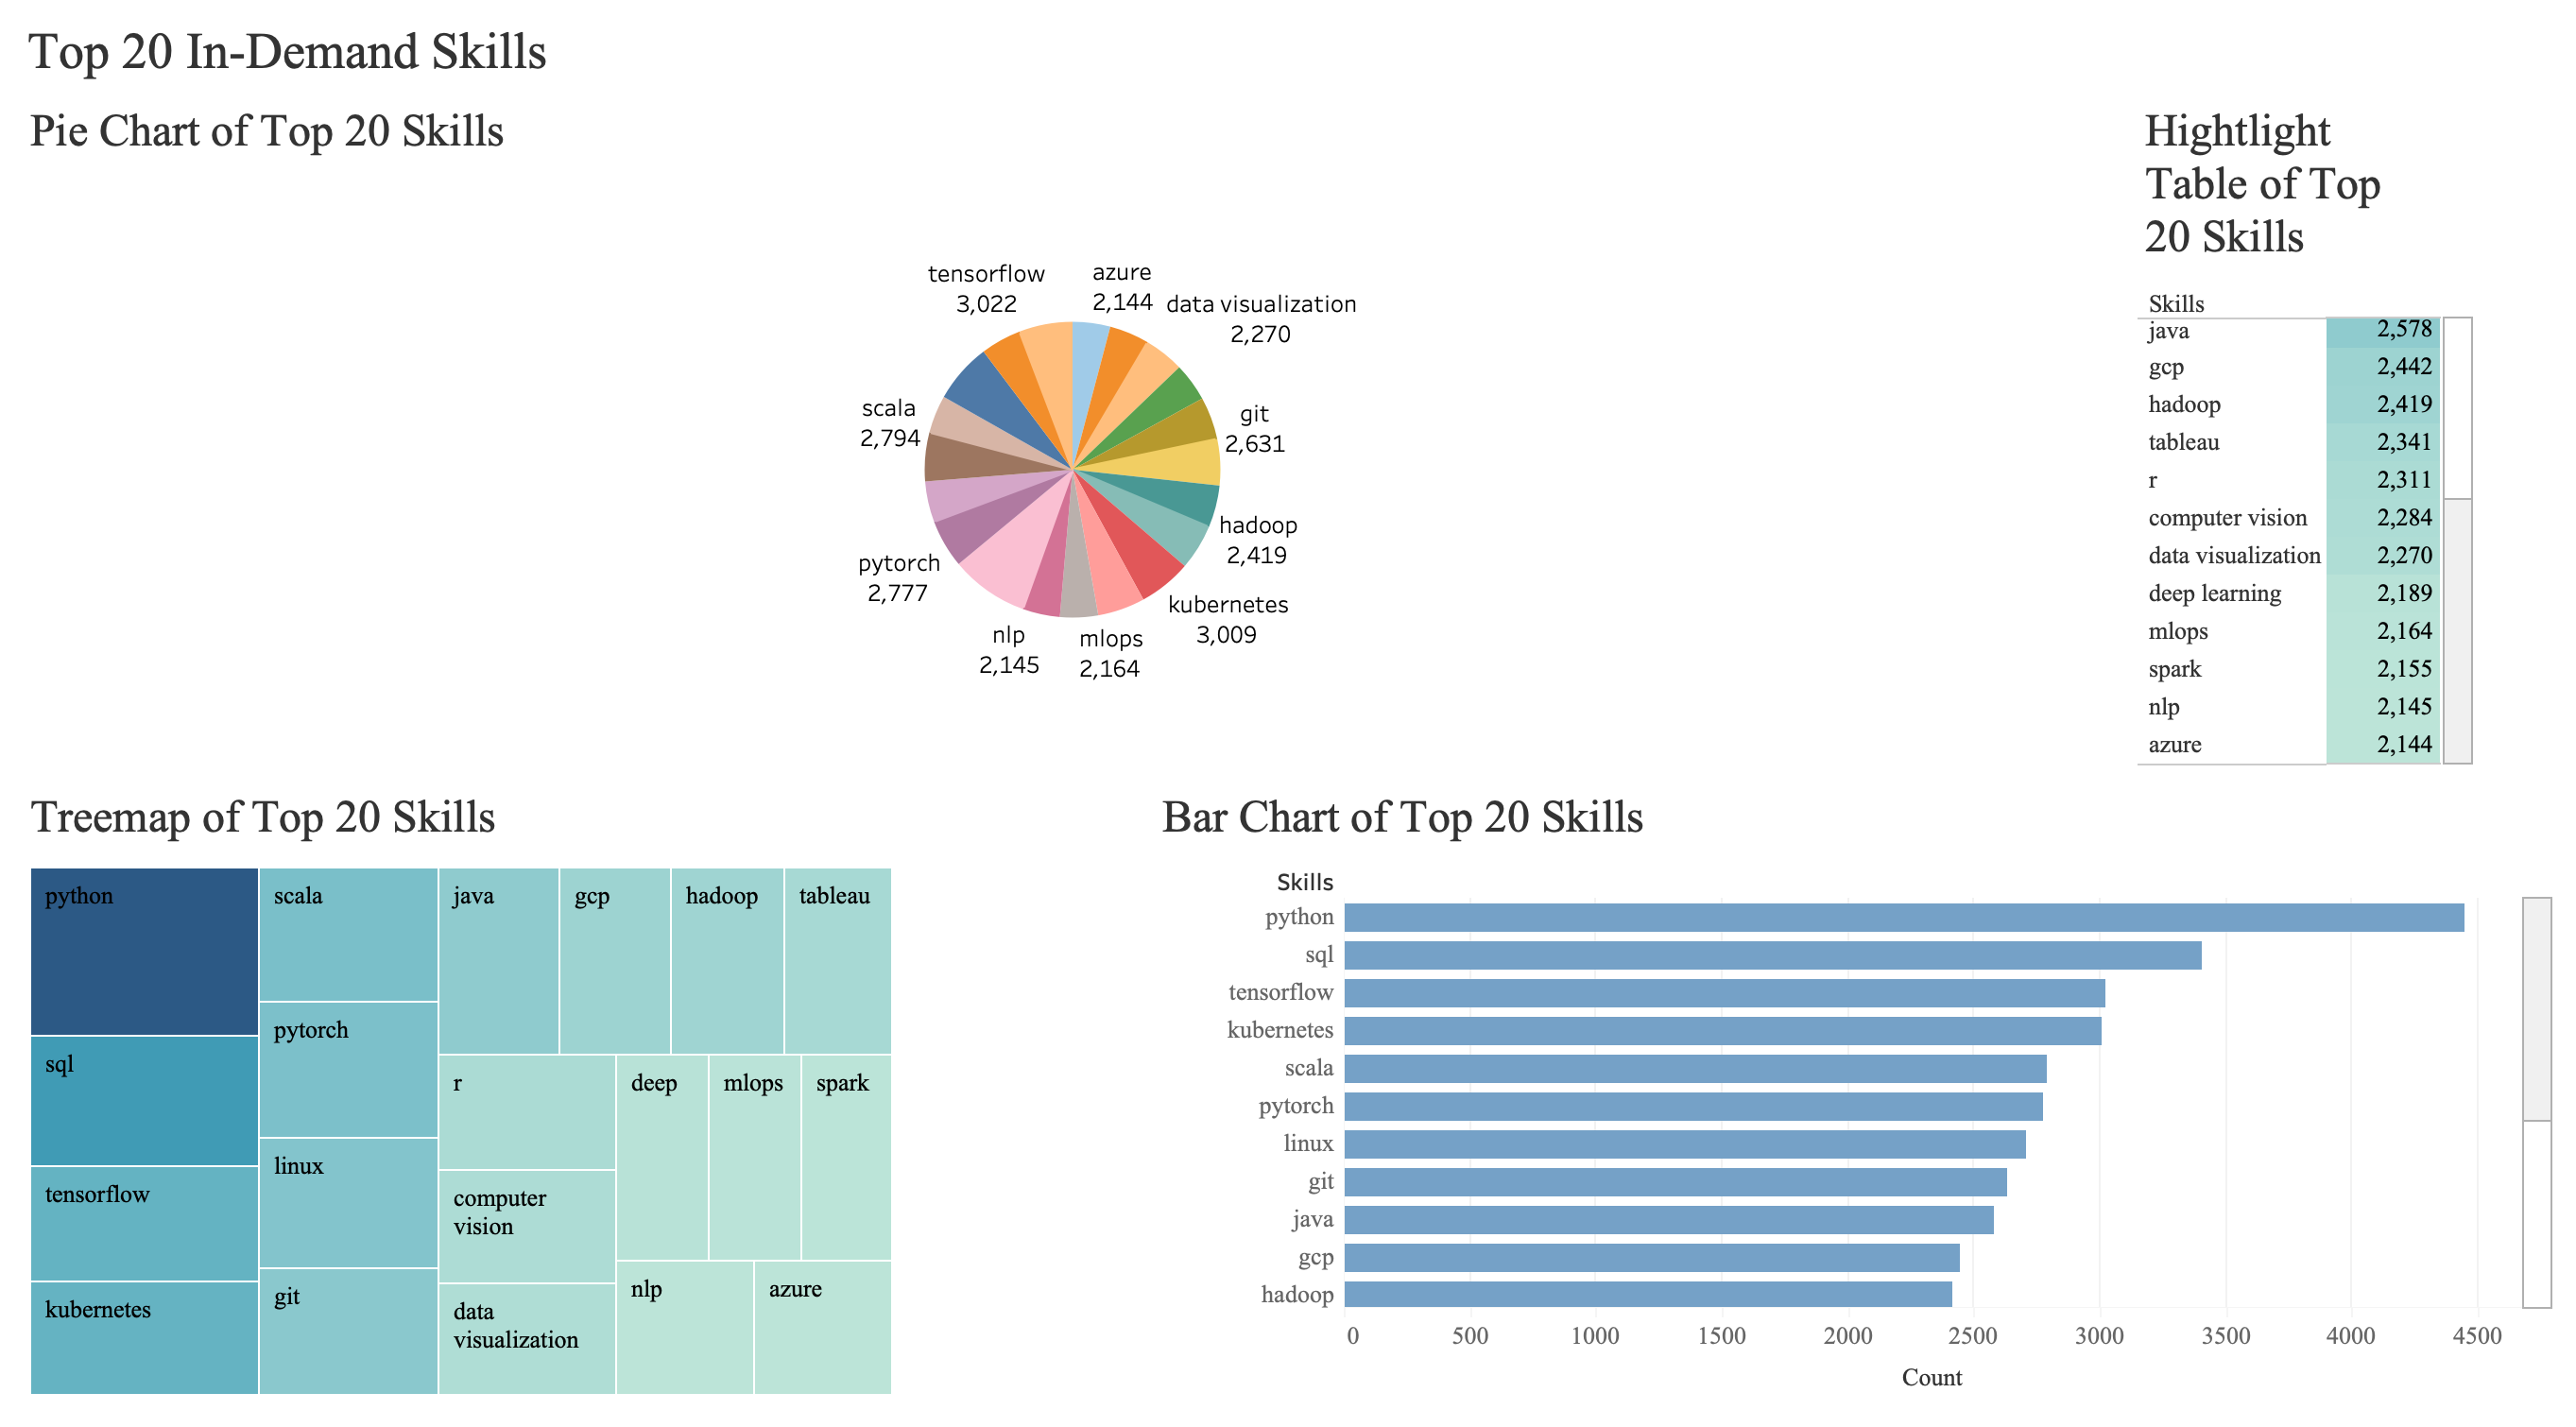

Layout of this report page (visuals, bound fields, positions):
{"tool":"tableau","page":{"name":"Dashboard 1","canvas":[1000,1000],"units":"permille","ordinal":0},"visuals":[{"type":"title","box":[5.9,10.6,988.3,50.3]},{"type":"worksheet","title":"Sheet 2","mark":"Pie","box":[5.9,60.9,820.7,480.9]},{"type":"worksheet","title":"Sheet 4","mark":"Square","rows":["skills"],"box":[826.6,60.9,167.6,480.9]},{"type":"worksheet","title":"Sheet 3","mark":"Automatic","box":[5.9,541.8,439.7,447.6]},{"type":"worksheet","title":"Sheet 1","mark":"Automatic","rows":["skills"],"cols":["count"],"box":[445.6,541.8,548.6,447.6]}]}

Visuals, with their boxes on the dashboard's canvas, which has no fixed pixel size, in thousandths of its width and height (x1, y1, x2, y2). These are canvas units, not pixel positions in the 2576x1427 screenshot, which may show the page scaled, cropped or inside an application window:
title: {"x1": 6, "y1": 11, "x2": 994, "y2": 61}
"Sheet 2" worksheet (Pie marks): {"x1": 6, "y1": 61, "x2": 827, "y2": 542}
"Sheet 4" worksheet (Square marks): {"x1": 827, "y1": 61, "x2": 994, "y2": 542}
"Sheet 3" worksheet: {"x1": 6, "y1": 542, "x2": 446, "y2": 989}
"Sheet 1" worksheet: {"x1": 446, "y1": 542, "x2": 994, "y2": 989}
